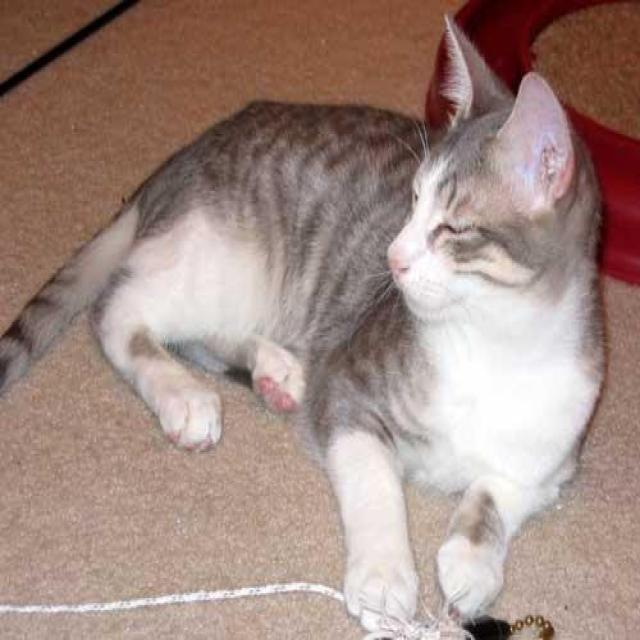Cats: (0, 10, 608, 638)
